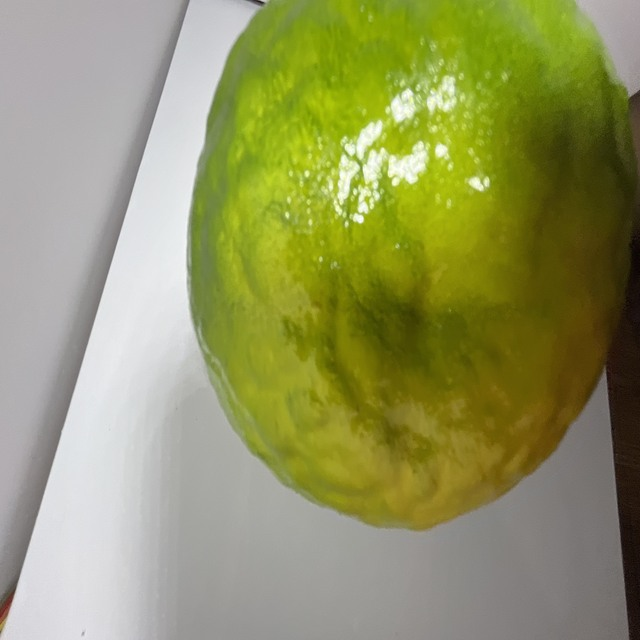Cam xanh: (175, 0, 640, 531)
